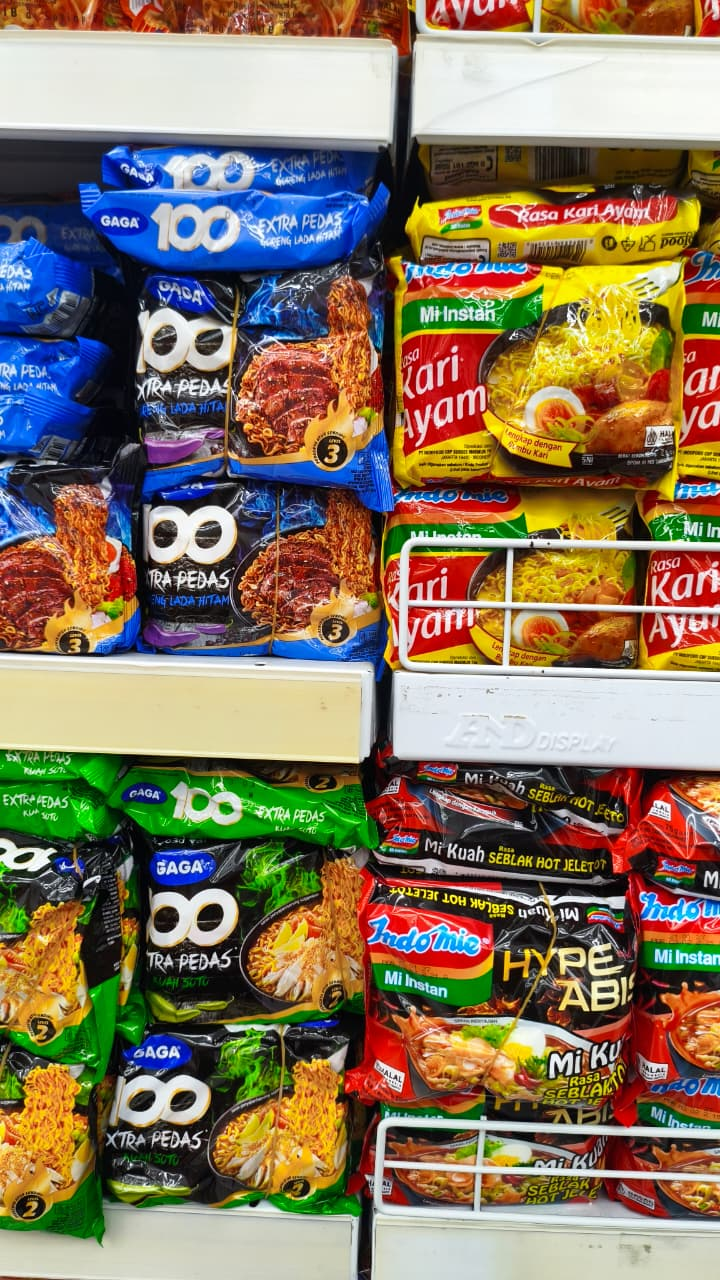Indomie Hype Abis: (364, 881, 645, 1102)
Indomie Kari Ayam: (390, 255, 683, 499)
